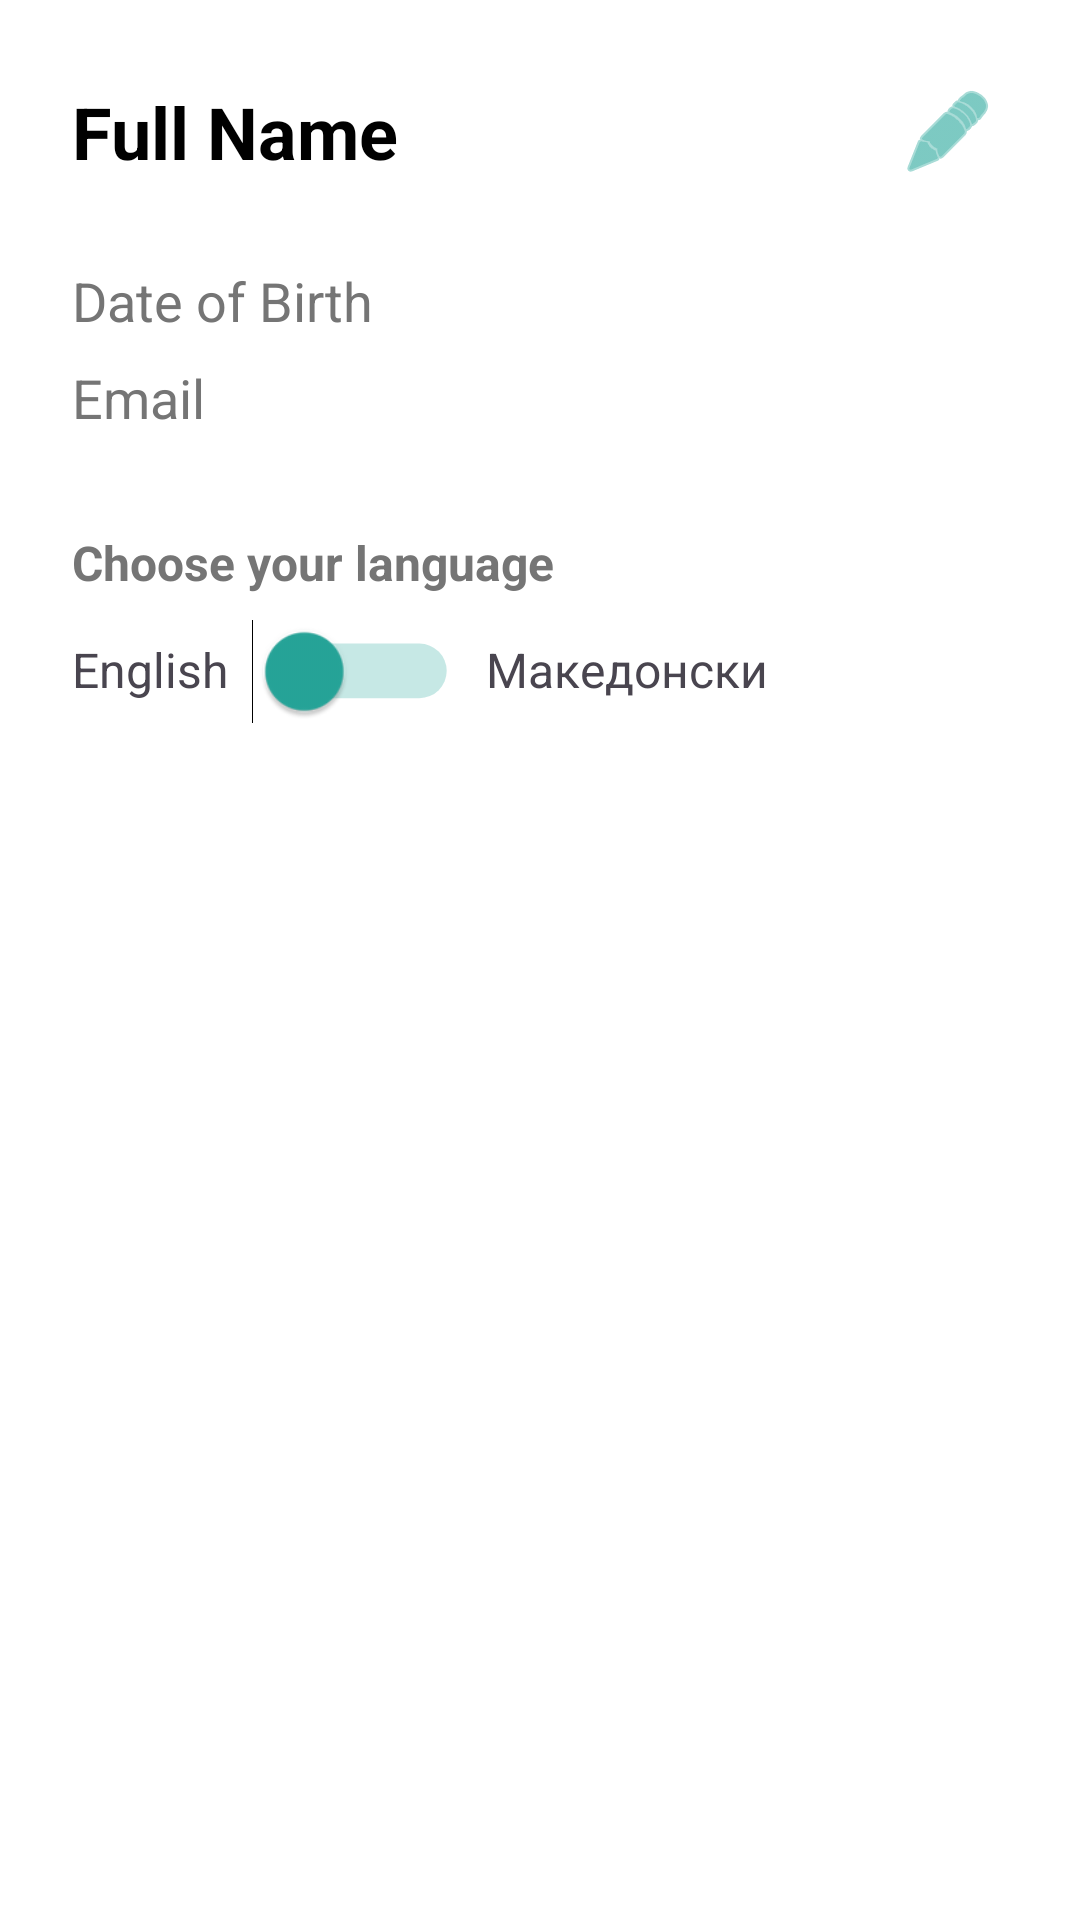

Locate icon controls on the screen. Image size 1080 × 1920, boxes as (x1, y1, x2, y2).
Edit Profile: (907, 91, 988, 172)
